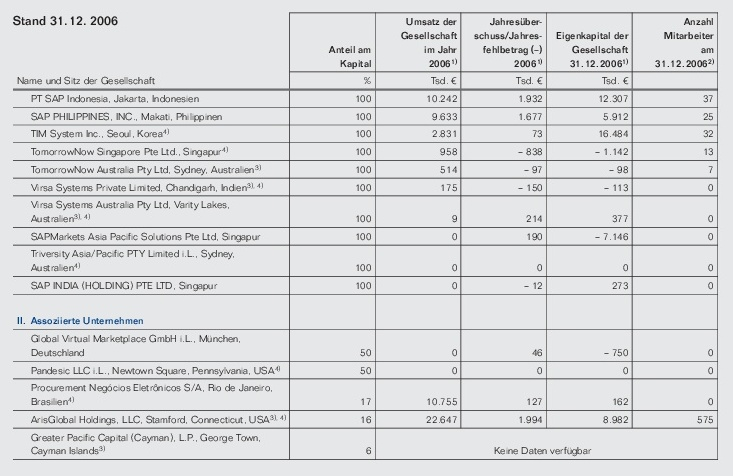table: (0, 0, 733, 476)
